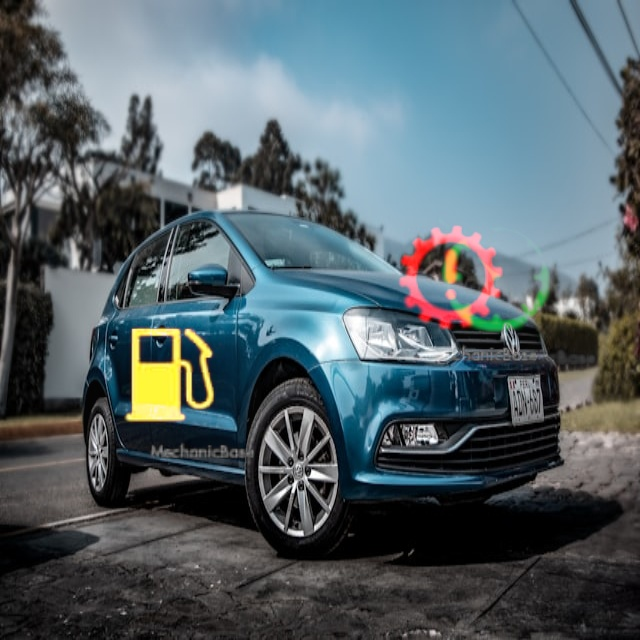symbol: (396, 167, 604, 375), (359, 185, 544, 370), (79, 285, 261, 467)
